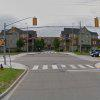Crosswalk: (25, 58, 97, 74)
